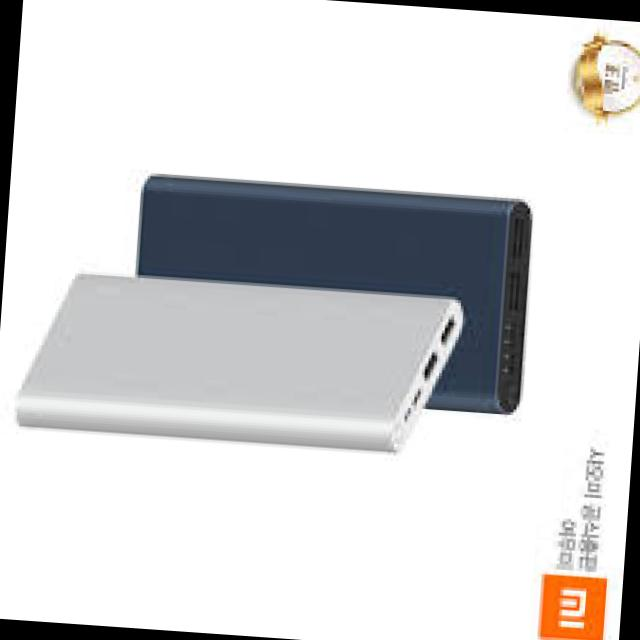power_bank: (120, 168, 536, 420), (11, 270, 463, 460)
